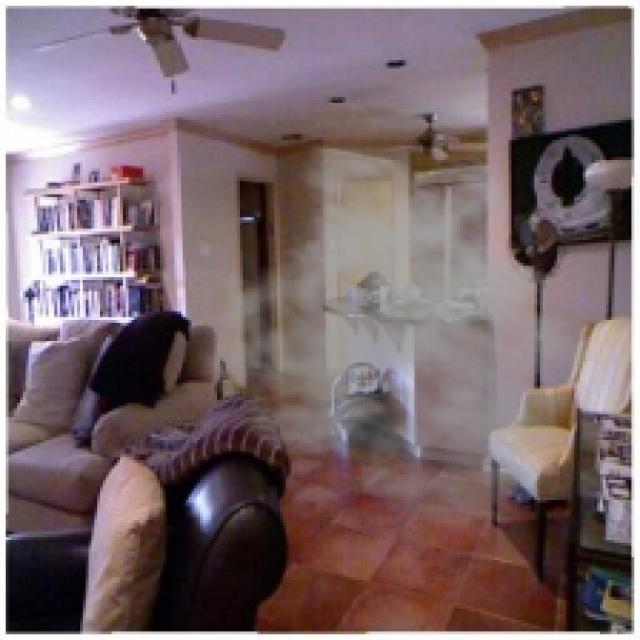smoke: (197, 143, 617, 528)
